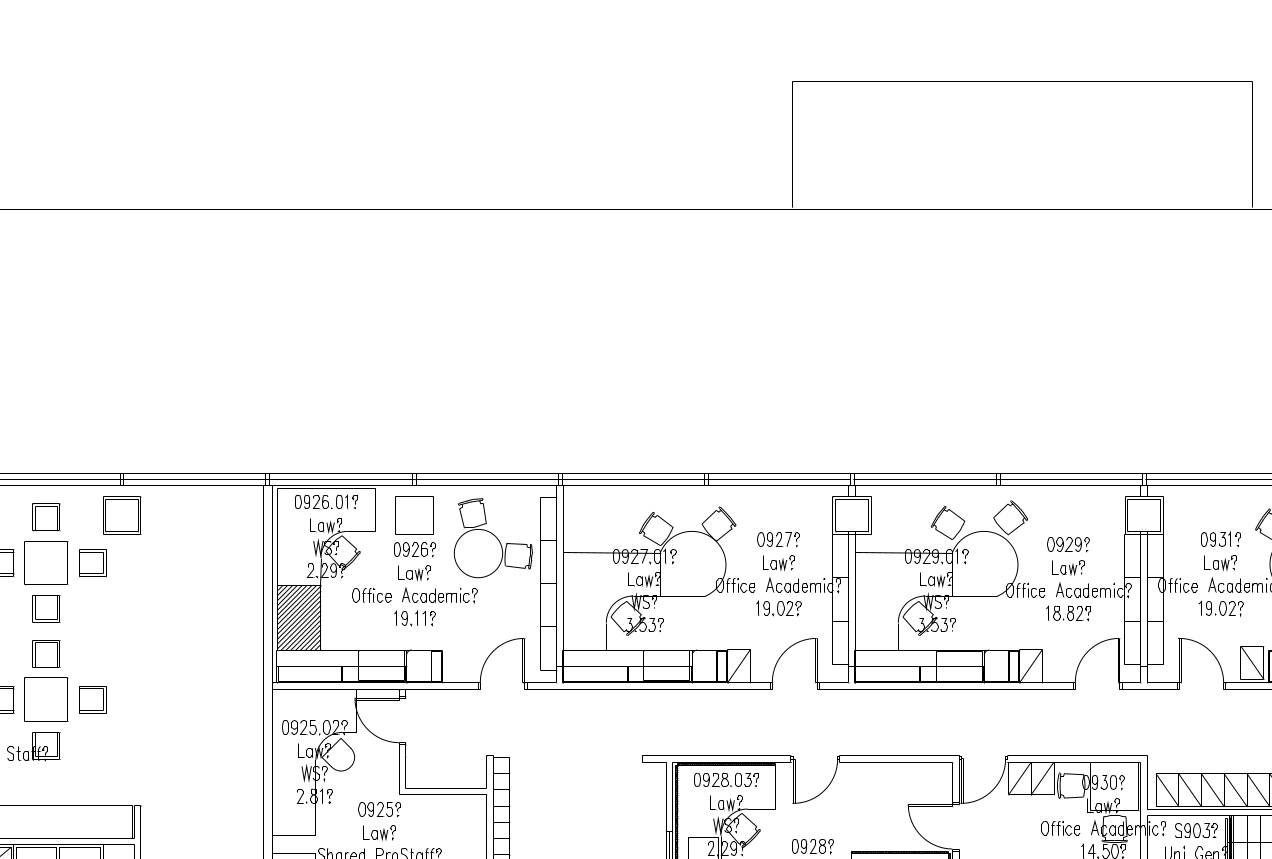door: (1172, 630, 1227, 685), (1068, 630, 1123, 685), (766, 631, 821, 686), (476, 632, 531, 687), (959, 755, 1009, 811), (352, 694, 404, 744), (786, 757, 838, 807), (899, 799, 951, 849)
